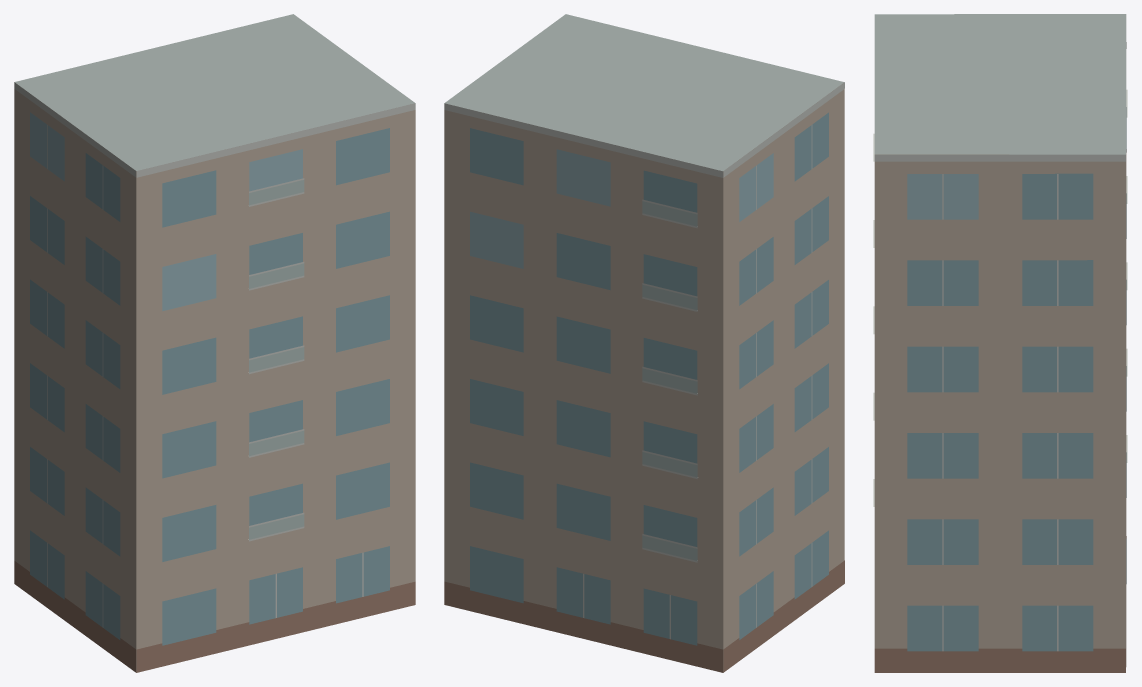
Rendered from survey-upis-32550517.glb.
3 renders of one model, left to right at view 1: azimuth 30°, elevation 25°; view 2: azimuth 150°, elevation 25°; view 3: azimuth 270°, elevation 25°, orthographic. The views are drawn at different scales.
Visible parts, largest first — view 1: survey-upis-32550517.tmp; view 2: survey-upis-32550517.tmp; view 3: survey-upis-32550517.tmp.
Boxes of the visible parts, x1,y1,x2,y2 form: survey-upis-32550517.tmp: (14, 14, 415, 672); survey-upis-32550517.tmp: (444, 14, 844, 672); survey-upis-32550517.tmp: (873, 14, 1127, 672).
Size of the model in its own units: 10.68 by 18.3 by 8.14.
